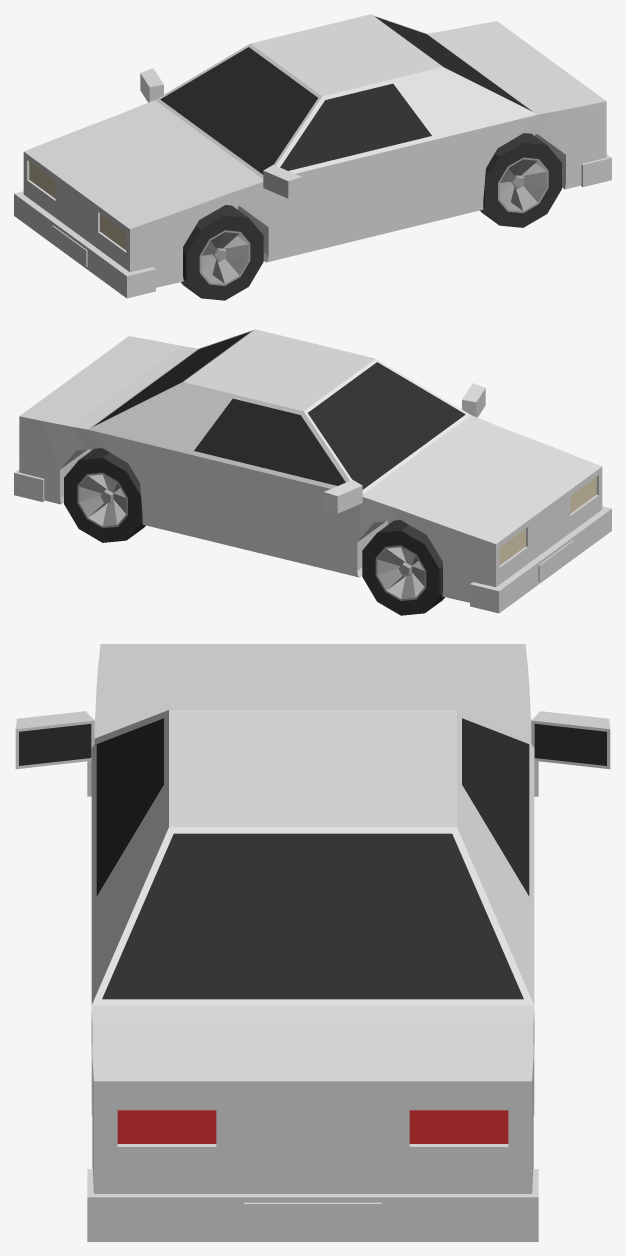
File: realistic_lowpoly_sedan.glb
3 renders of one model, top to bottom at view 1: azimuth 30°, elevation 25°; view 2: azimuth 150°, elevation 25°; view 3: azimuth 270°, elevation 25°, orthographic. The views are drawn at different scales.
Visible parts, largest first — view 1: Cube, Cylinder.002, Cylinder.003; view 2: Cube, Cylinder, Cylinder.001; view 3: Cube.
Part boxes in pixels (bbox=[...]): Cube: bbox=[14, 14, 611, 298]; Cylinder.002: bbox=[181, 205, 263, 300]; Cylinder.003: bbox=[480, 133, 561, 227]; Cube: bbox=[14, 329, 611, 613]; Cylinder: bbox=[362, 520, 444, 615]; Cylinder.001: bbox=[64, 448, 145, 542]; Cube: bbox=[15, 644, 610, 1241].
Bounding box in the file's own units: 4.58 × 1.45 × 2.42.
